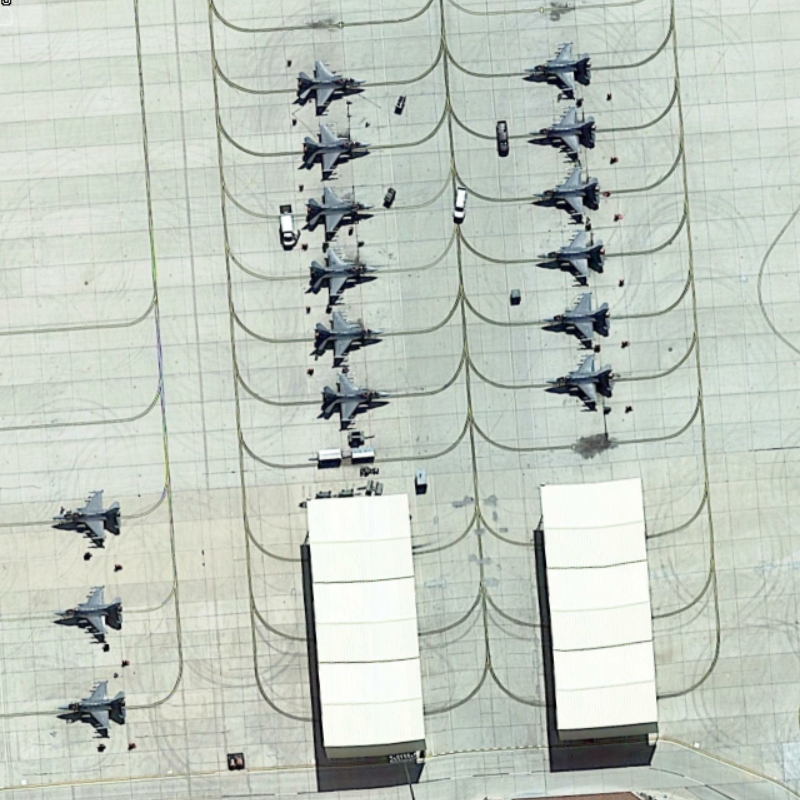A5: (314, 364, 397, 439), (516, 33, 604, 103), (46, 482, 136, 550), (54, 671, 136, 744), (522, 156, 609, 224), (44, 580, 127, 650), (530, 286, 617, 352), (530, 222, 616, 288), (295, 180, 380, 245), (521, 99, 604, 165), (538, 350, 621, 415), (301, 248, 388, 310), (307, 306, 389, 371), (297, 115, 375, 183), (291, 55, 374, 116)
